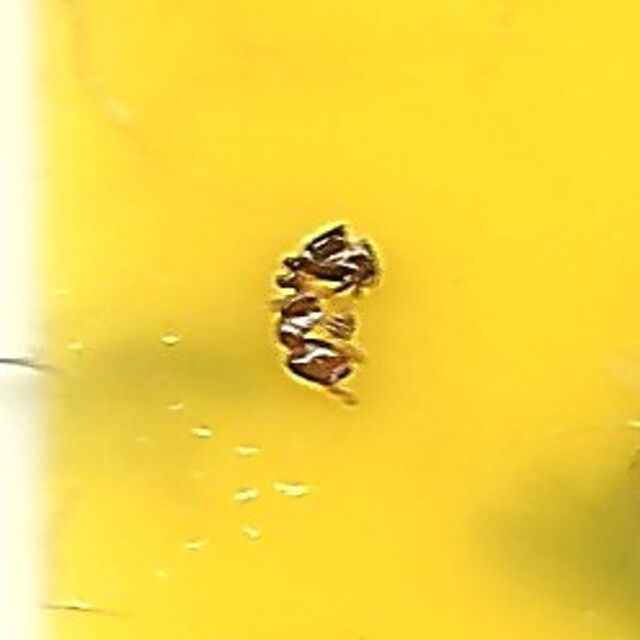Hymenoptera: (258, 220, 382, 420)
